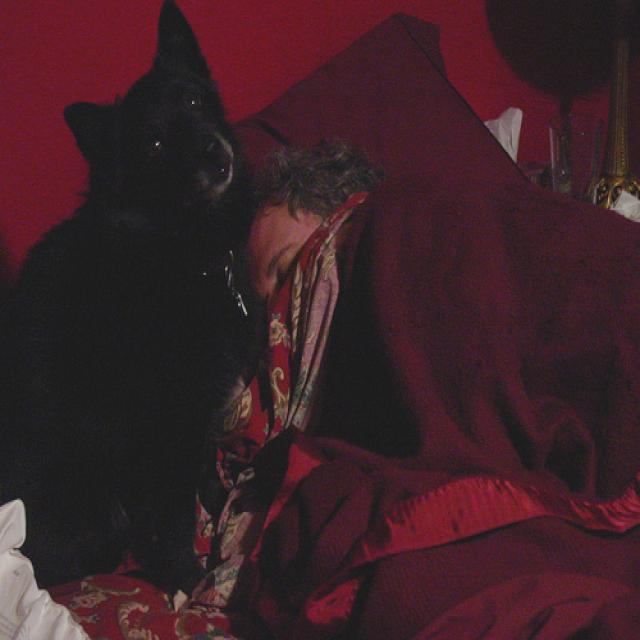Dog: (50, 20, 273, 514)
